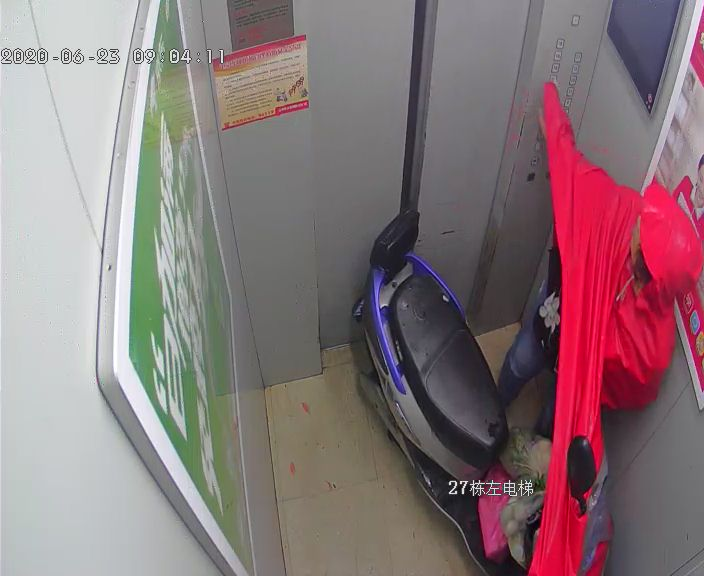Electric-bicycle: (359, 212, 618, 573)
